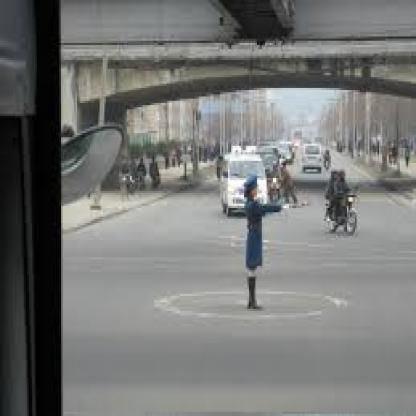car: (220, 141, 268, 220), (305, 143, 324, 185)
